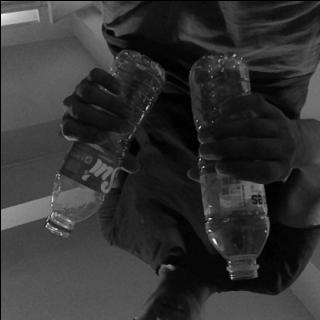plastic_bottles: (44, 48, 160, 238), (183, 52, 270, 280)
